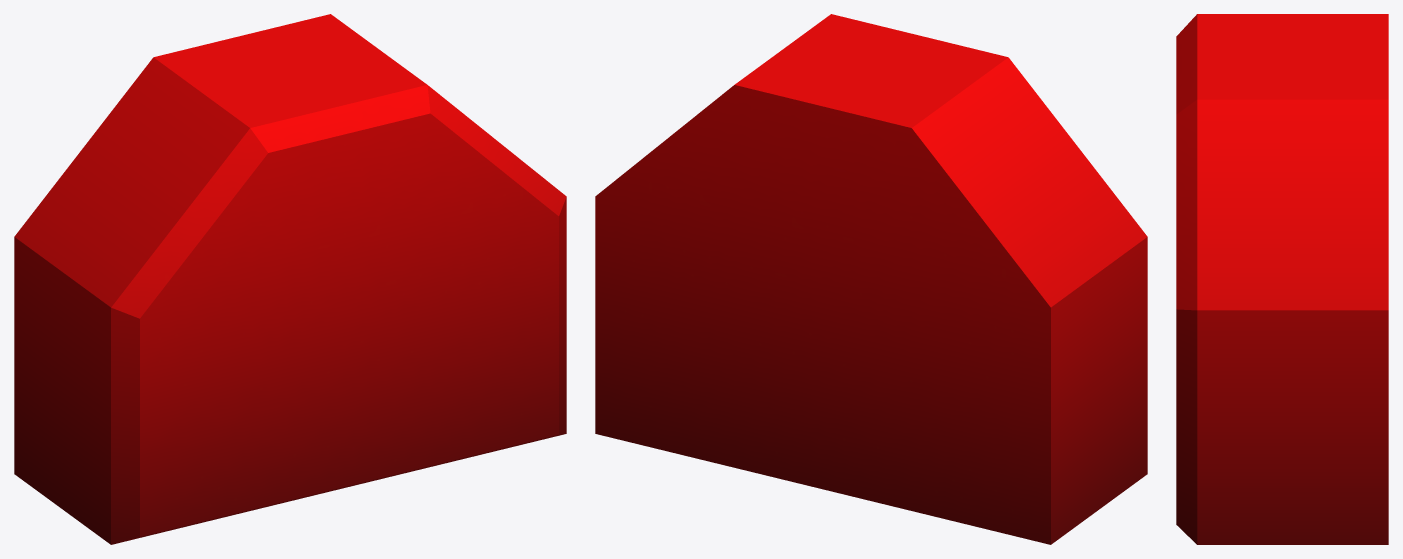
Rendered from switch_003.fbx.
The picture shows the model from 3 angles, left to right: view 1: azimuth 30°, elevation 25°; view 2: azimuth 150°, elevation 25°; view 3: azimuth 270°, elevation 25°; orthographic projection.
Parts seen in each view (by area): view 1: switch.003; view 2: switch.003; view 3: switch.003.
Part boxes in pixels (box(x1,y1,x2,y2)): switch.003: box(14, 14, 566, 544); switch.003: box(595, 14, 1147, 544); switch.003: box(1176, 14, 1388, 544).
Bounding box in the file's own units: 33.36 × 26.8 × 13.61.
